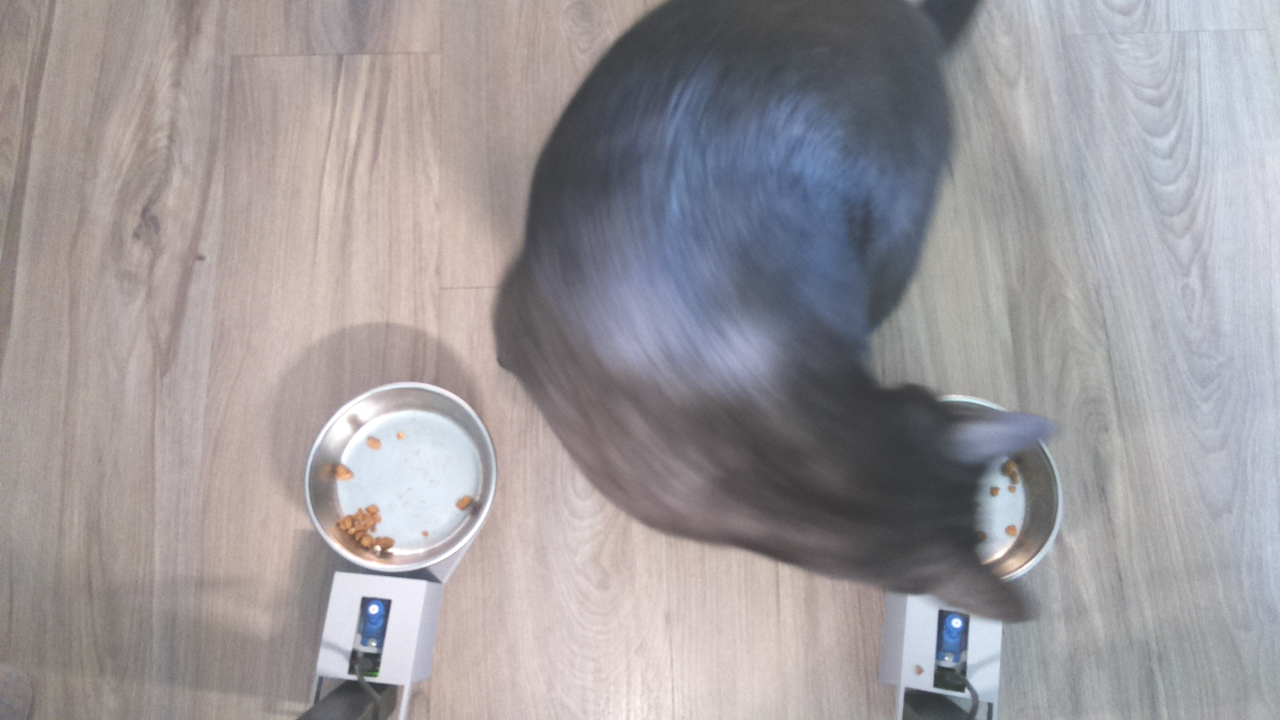open_bowl: (304, 377, 493, 577)
saki_eating: (825, 346, 1058, 627)
